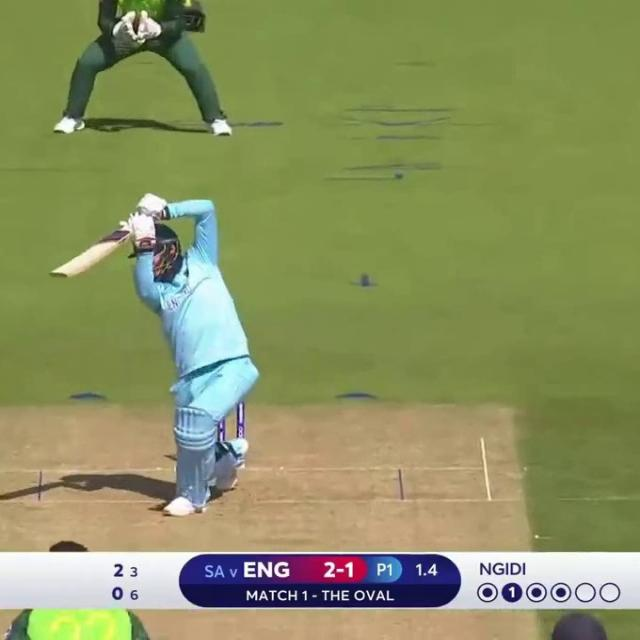bat: (47, 231, 129, 276)
toe: (50, 271, 68, 278)
